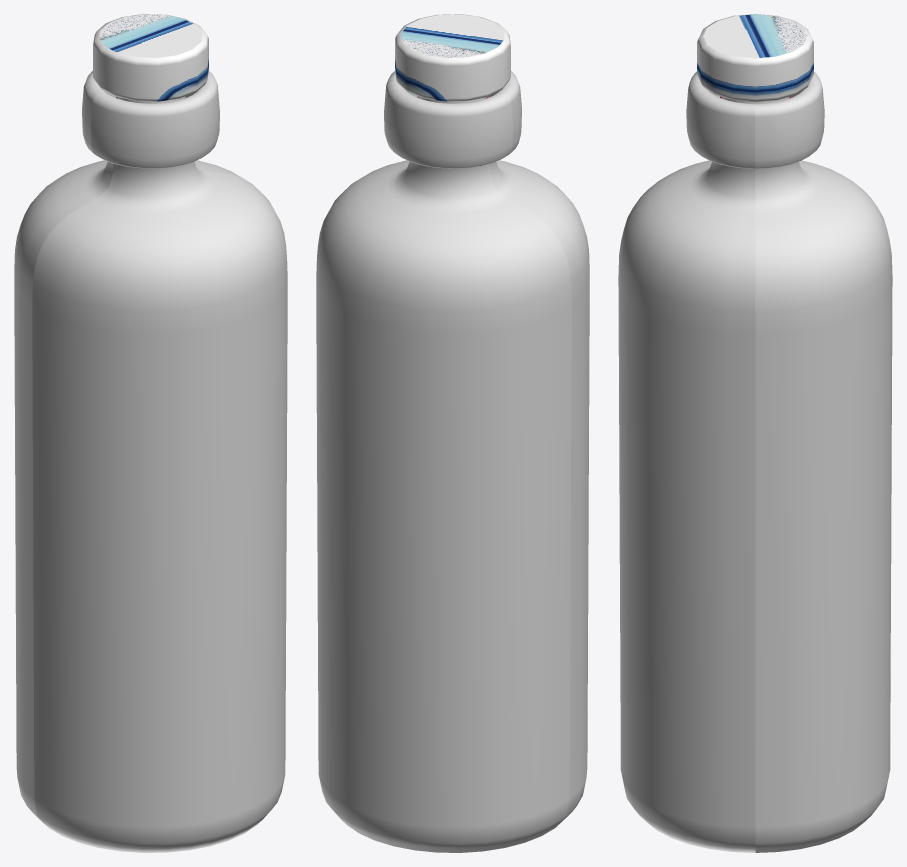
The model's file is Bottles.fbx.
3 renders of one model, left to right at view 1: azimuth 30°, elevation 25°; view 2: azimuth 150°, elevation 25°; view 3: azimuth 270°, elevation 25°, orthographic.
Parts seen in each view (by area): view 1: Bottle, Bottle_Cap; view 2: Bottle, Bottle_Cap; view 3: Bottle, Bottle_Cap.
Part boxes in pixels (x1,y1,x2,y2): Bottle: (14, 71, 287, 852); Bottle_Cap: (93, 14, 208, 103); Bottle: (316, 71, 589, 852); Bottle_Cap: (395, 14, 510, 103); Bottle: (618, 71, 892, 852); Bottle_Cap: (697, 14, 813, 103).
Bounding box in the file's own units: 1.14 × 3.52 × 1.14.
3 materials, 1 textured.
